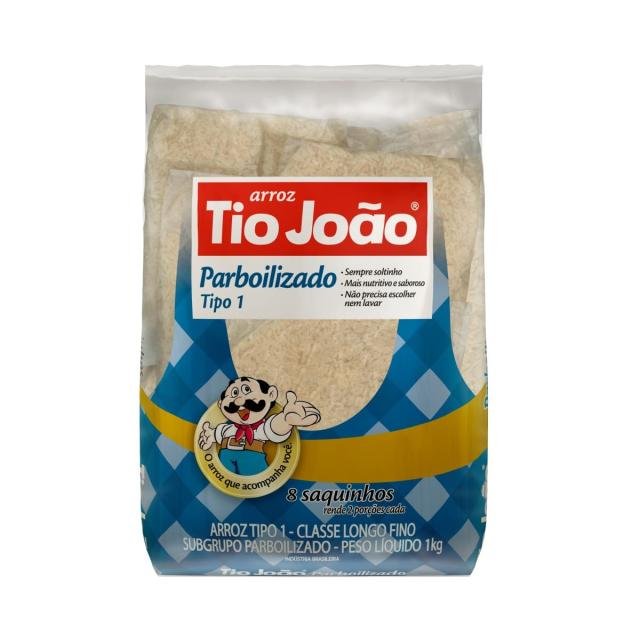rice package: (141, 67, 486, 575)
